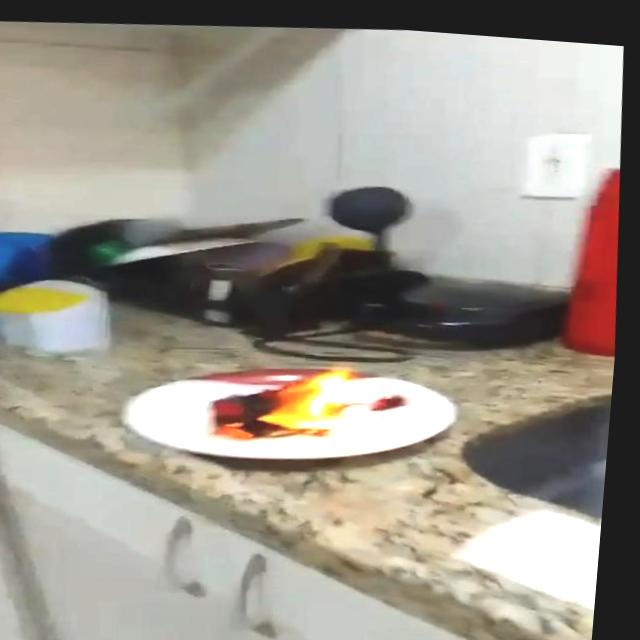helmet: (211, 348, 371, 446)
